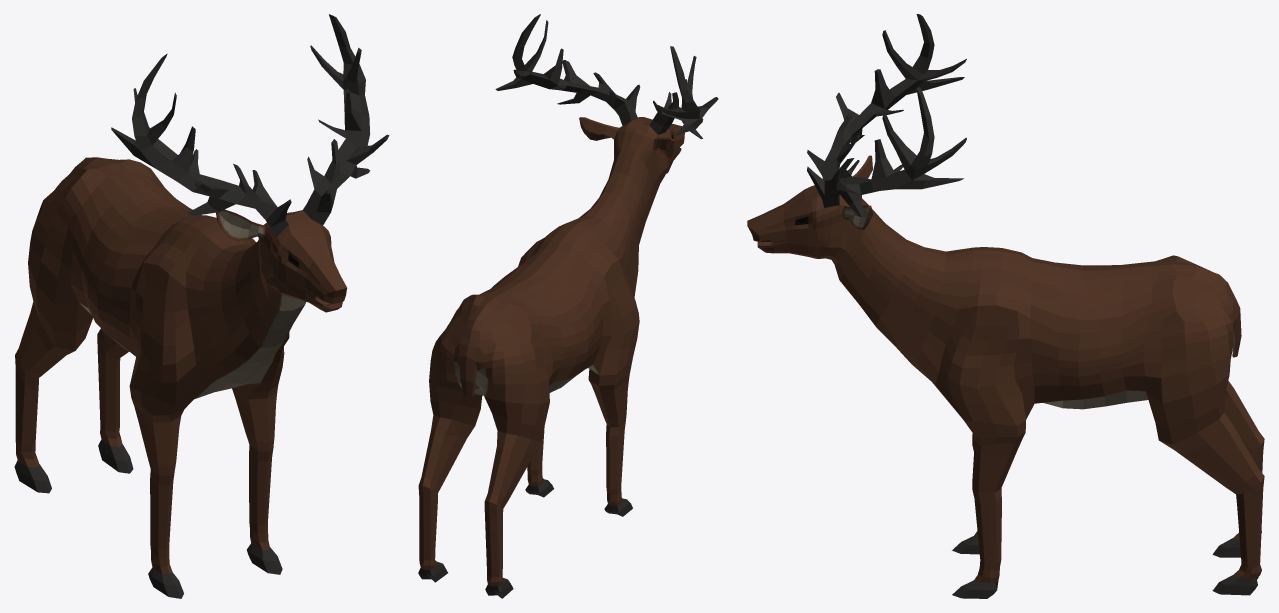
Rendered from Red_Deer.fbx.
3 views of the same model, side by side, from view 1: azimuth 30°, elevation 25°; view 2: azimuth 150°, elevation 25°; view 3: azimuth 270°, elevation 25° (orthographic). The views are drawn at different scales.
Visible parts, largest first — view 1: Body; view 2: Body; view 3: Body.
Part boxes in pixels (box(x1,y1,x2,y2)): Body: box(14, 14, 389, 598); Body: box(418, 14, 718, 598); Body: box(747, 14, 1264, 598).
Bounding box in the file's own units: 8.68 × 20.28 × 18.19.
Materials: 1 (1 with a texture image).
